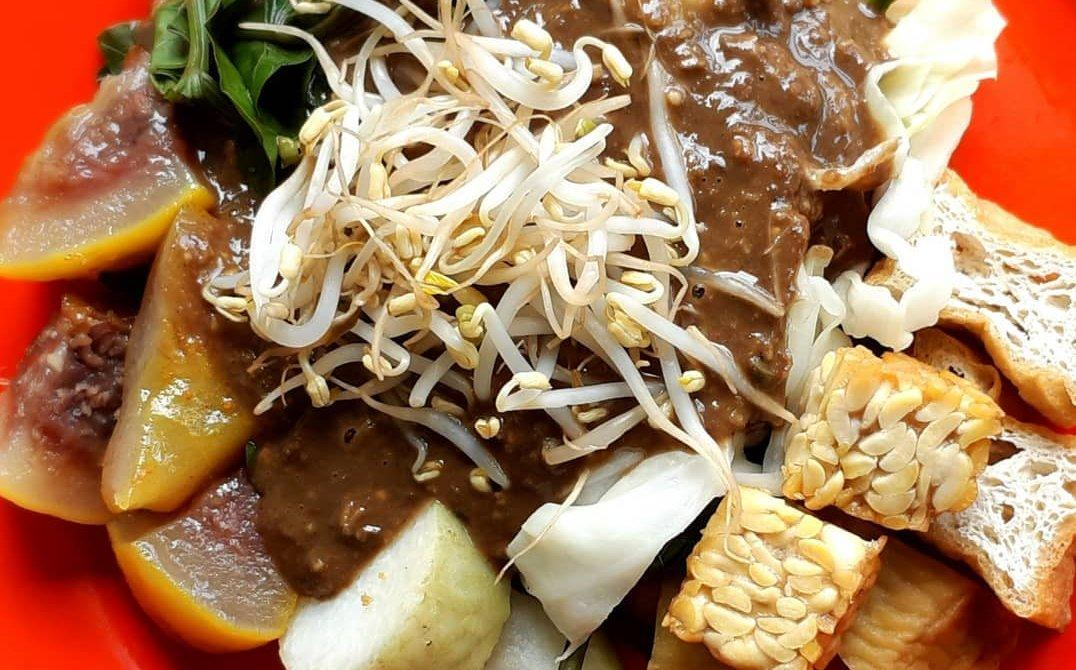rujak_cingur: (7, 2, 1076, 670)
